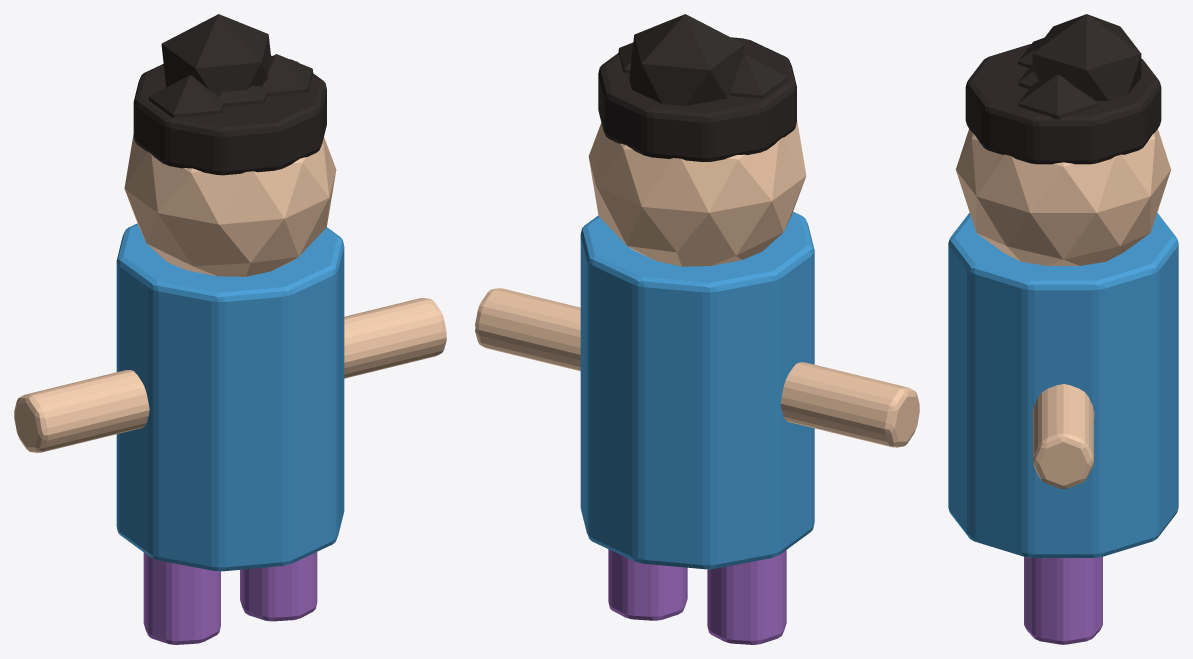
Rendered from Customer.fbx.
3 renders of one model, left to right at view 1: azimuth 30°, elevation 25°; view 2: azimuth 150°, elevation 25°; view 3: azimuth 270°, elevation 25°, orthographic. The views are drawn at different scales.
Visible parts, largest first — view 1: ShirtBody, SkinHead, HairStyle_Cap, SkinArm_-0.48, HairStyle_Bun, SkinArm_0.48, PantsLeg_-0.19, PantsLeg_0.19, HairStyle_Curls_-0.17, HairStyle_Curls_0.17, HairStyle_Curls_0; view 2: ShirtBody, SkinHead, HairStyle_Cap, SkinArm_-0.48, HairStyle_Bun, SkinArm_0.48, PantsLeg_-0.19, PantsLeg_0.19, HairStyle_Curls_-0.17; view 3: ShirtBody, SkinHead, HairStyle_Cap, HairStyle_Bun, PantsLeg_0.19, SkinArm_0.48, HairStyle_Curls_0.17.
Part boxes in pixels (x1,y1,x2,y2): ShirtBody: [116, 223, 344, 571]; SkinHead: [124, 134, 336, 276]; HairStyle_Cap: [133, 55, 326, 175]; SkinArm_-0.48: [14, 370, 149, 452]; HairStyle_Bun: [161, 14, 270, 95]; SkinArm_0.48: [344, 298, 446, 378]; PantsLeg_-0.19: [143, 552, 220, 644]; PantsLeg_0.19: [240, 552, 317, 621]; HairStyle_Curls_-0.17: [148, 75, 223, 117]; HairStyle_Curls_0.17: [261, 54, 313, 96]; HairStyle_Curls_0: [218, 85, 266, 106]; ShirtBody: [580, 211, 814, 569]; SkinHead: [588, 120, 806, 266]; HairStyle_Cap: [598, 37, 796, 161]; SkinArm_-0.48: [780, 362, 919, 447]; HairStyle_Bun: [629, 14, 744, 105]; SkinArm_0.48: [475, 288, 580, 371]; PantsLeg_-0.19: [707, 550, 786, 644]; PantsLeg_0.19: [608, 549, 687, 620]; HairStyle_Curls_-0.17: [730, 55, 787, 98]; ShirtBody: [948, 213, 1178, 557]; SkinHead: [955, 129, 1171, 265]; HairStyle_Cap: [965, 44, 1161, 164]; HairStyle_Bun: [1032, 14, 1141, 100]; PantsLeg_0.19: [1024, 557, 1102, 644]; SkinArm_0.48: [1032, 384, 1094, 489]; HairStyle_Curls_0.17: [1018, 74, 1097, 119].
Bounding box in the file's own units: 1.61 × 2.25 × 0.7909.
